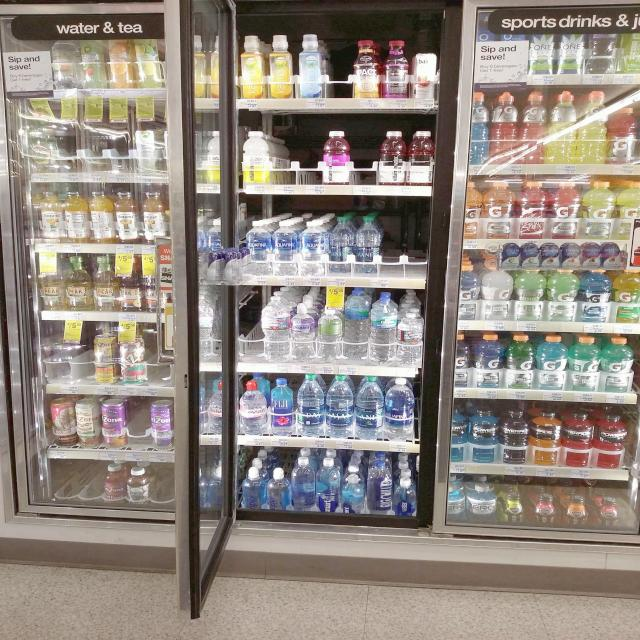empty_space: (55, 132, 133, 172), (385, 219, 424, 277), (58, 461, 102, 499), (49, 344, 93, 380), (288, 138, 320, 182), (351, 140, 377, 182), (331, 51, 353, 97), (127, 409, 151, 447), (145, 351, 171, 385), (150, 467, 174, 503), (247, 302, 261, 354), (283, 450, 293, 472)
